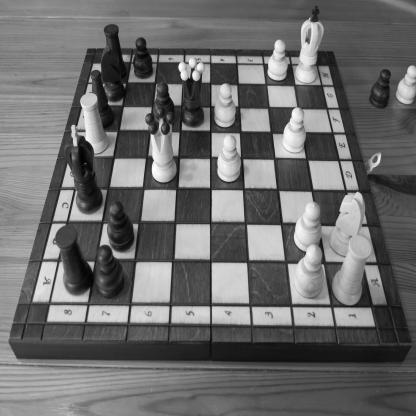black-bishop: (90, 69, 114, 128)
black-king: (64, 124, 103, 214)
black-knight: (100, 45, 126, 102)
black-pawn: (94, 244, 125, 299), (106, 200, 135, 253), (152, 82, 176, 126), (369, 68, 392, 110), (133, 36, 153, 80)
black-queen: (178, 57, 206, 128)
black-rook: (54, 224, 94, 296), (103, 23, 127, 78)
white-king: (295, 5, 324, 84)
white-knight: (329, 191, 366, 258)
white-pawn: (294, 244, 324, 300), (293, 200, 322, 253), (217, 134, 241, 182), (282, 107, 307, 153), (214, 82, 236, 129), (267, 39, 288, 82), (395, 64, 415, 107)
white-queen: (145, 106, 177, 184)
white-rook: (331, 234, 372, 307), (80, 92, 109, 155)
